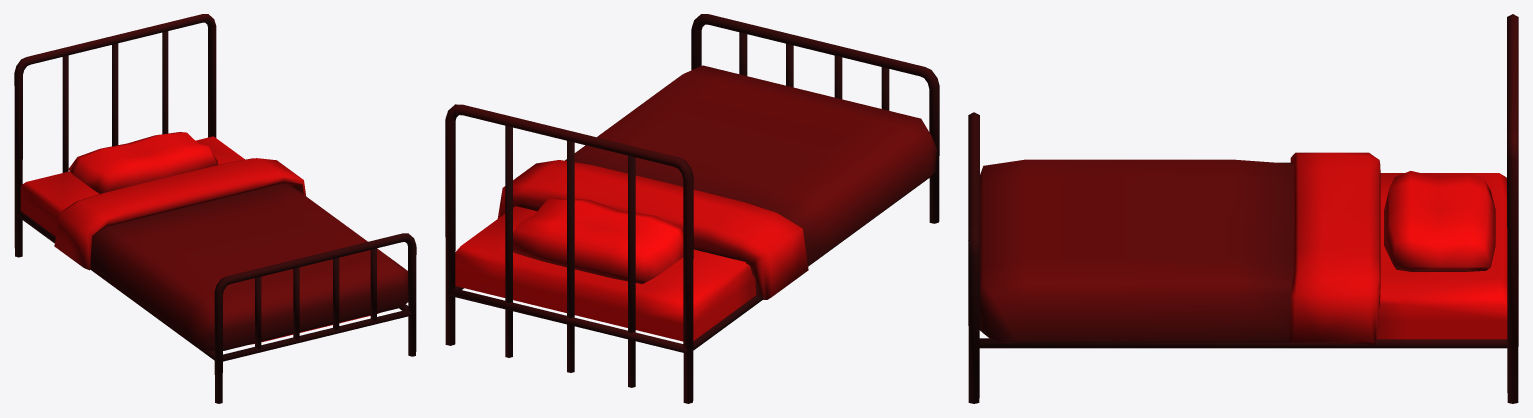
File: SteelPipeBed.glb
3 views of the same model, side by side, from view 1: azimuth 30°, elevation 25°; view 2: azimuth 150°, elevation 25°; view 3: azimuth 270°, elevation 25° (orthographic). The views are drawn at different scales.
Parts seen in each view (by area): view 1: SteelPipeBed; view 2: SteelPipeBed; view 3: SteelPipeBed.
Part boxes in pixels (x1,y1,x2,y2): SteelPipeBed: (14, 14, 416, 403); SteelPipeBed: (445, 14, 939, 403); SteelPipeBed: (968, 14, 1518, 403).
Size of the model in its own units: 6.92 by 5.81 by 10.92.
